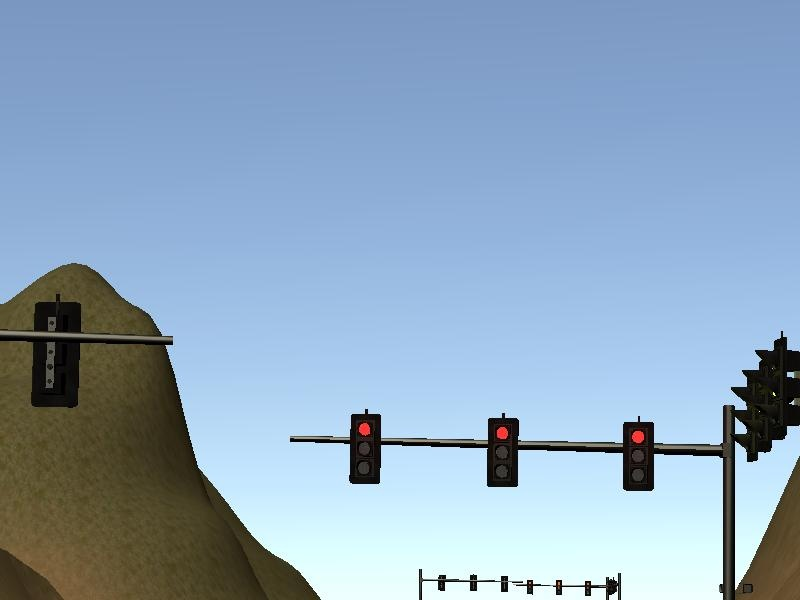red: (348, 414, 379, 483), (489, 416, 518, 487), (622, 423, 653, 489)
